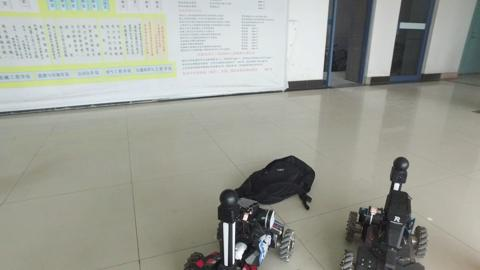chariot: (340, 155, 430, 269), (179, 186, 294, 269)
